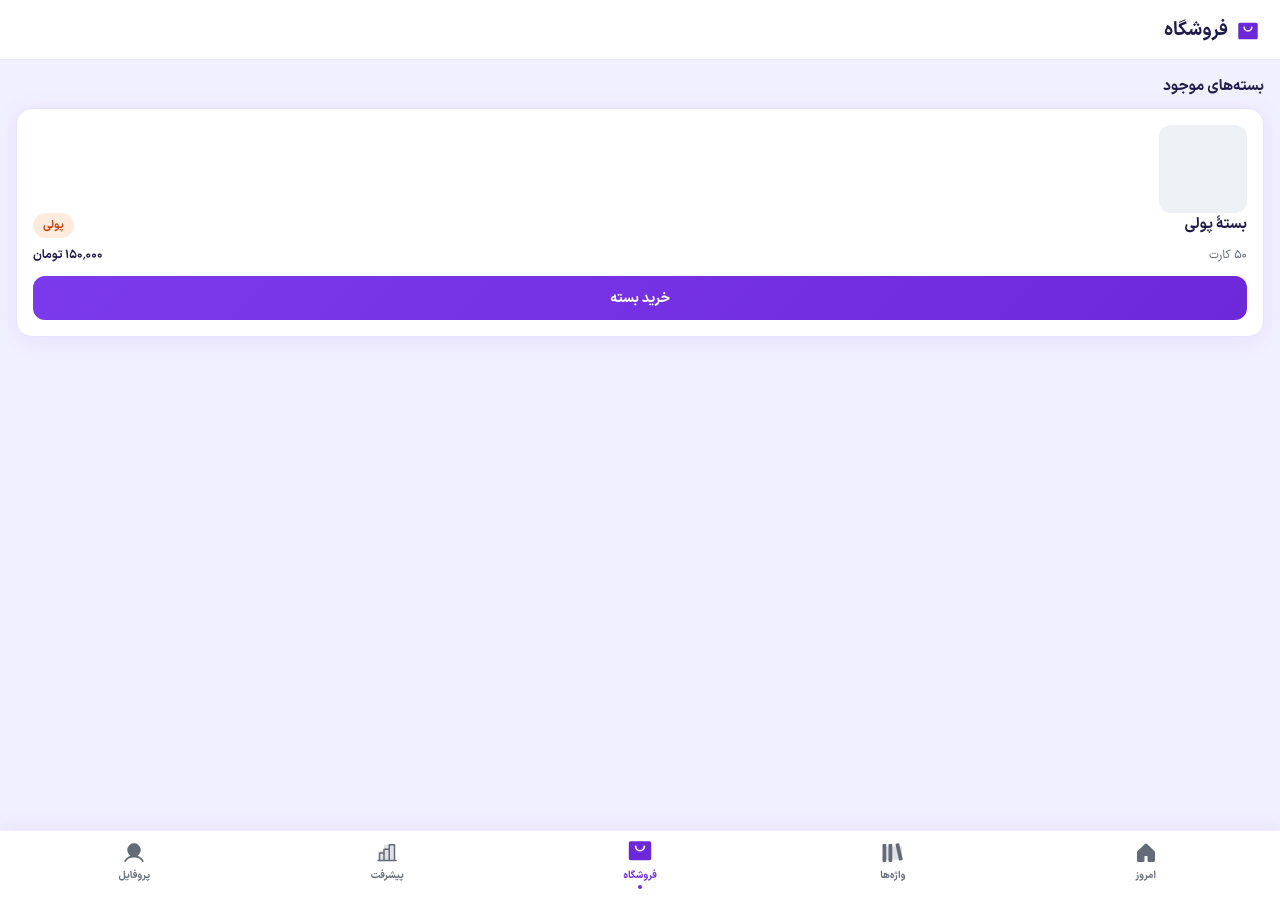
Test case: M2.4 Store purchase CTA › uses the server-approved myket SKU, verifies the native receipt, and reloads ownership
Click the button "خرید بسته" at (640, 298), box [33, 276, 1247, 320]
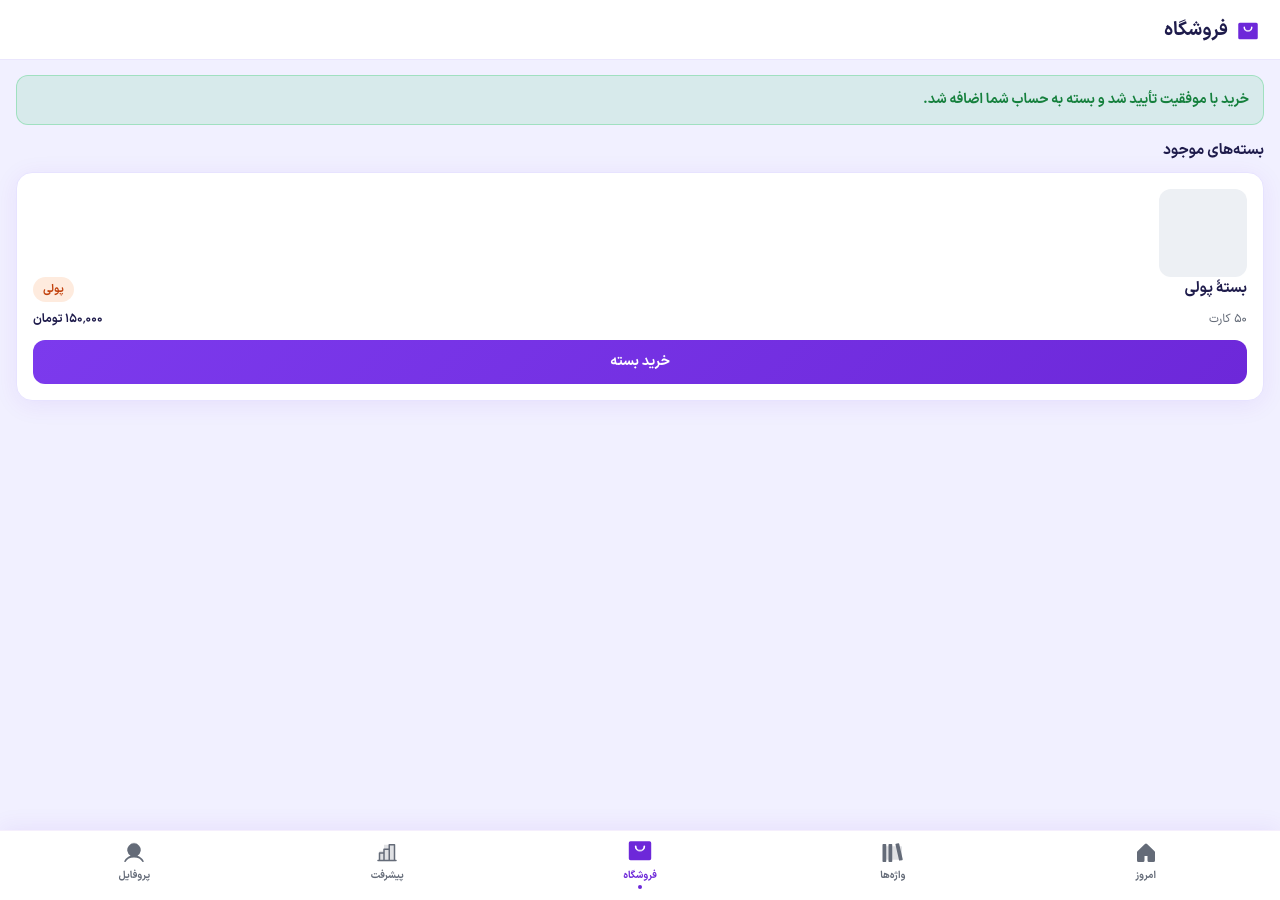
Now the text "خرید با موفقیت تأیید شد" is shown, box [923, 89, 1249, 110]
